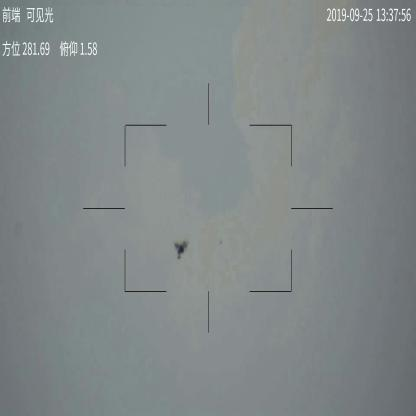uav: (171, 236, 191, 264)
